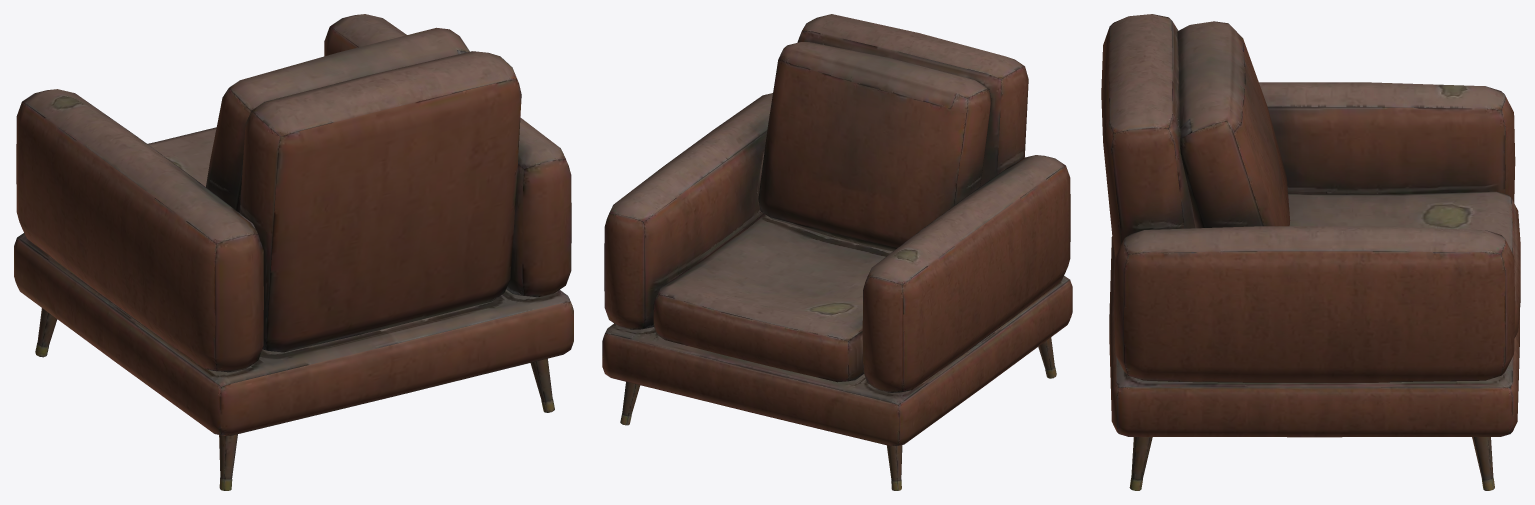
The model's file is furniture_armchair.glb.
3 views of the same model, side by side, from view 1: azimuth 30°, elevation 25°; view 2: azimuth 150°, elevation 25°; view 3: azimuth 270°, elevation 25° (orthographic). The views are drawn at different scales.
Parts seen in each view (by area): view 1: furniture_armchair; view 2: furniture_armchair; view 3: furniture_armchair.
Part boxes in pixels (left/top/right/bottom): furniture_armchair: left=14, top=14, right=573, bottom=490; furniture_armchair: left=602, top=14, right=1072, bottom=490; furniture_armchair: left=1101, top=14, right=1520, bottom=490.
Bounding box in the file's own units: 0.912 × 0.8497 × 0.9116.
Materials: 1 (1 with a texture image).
